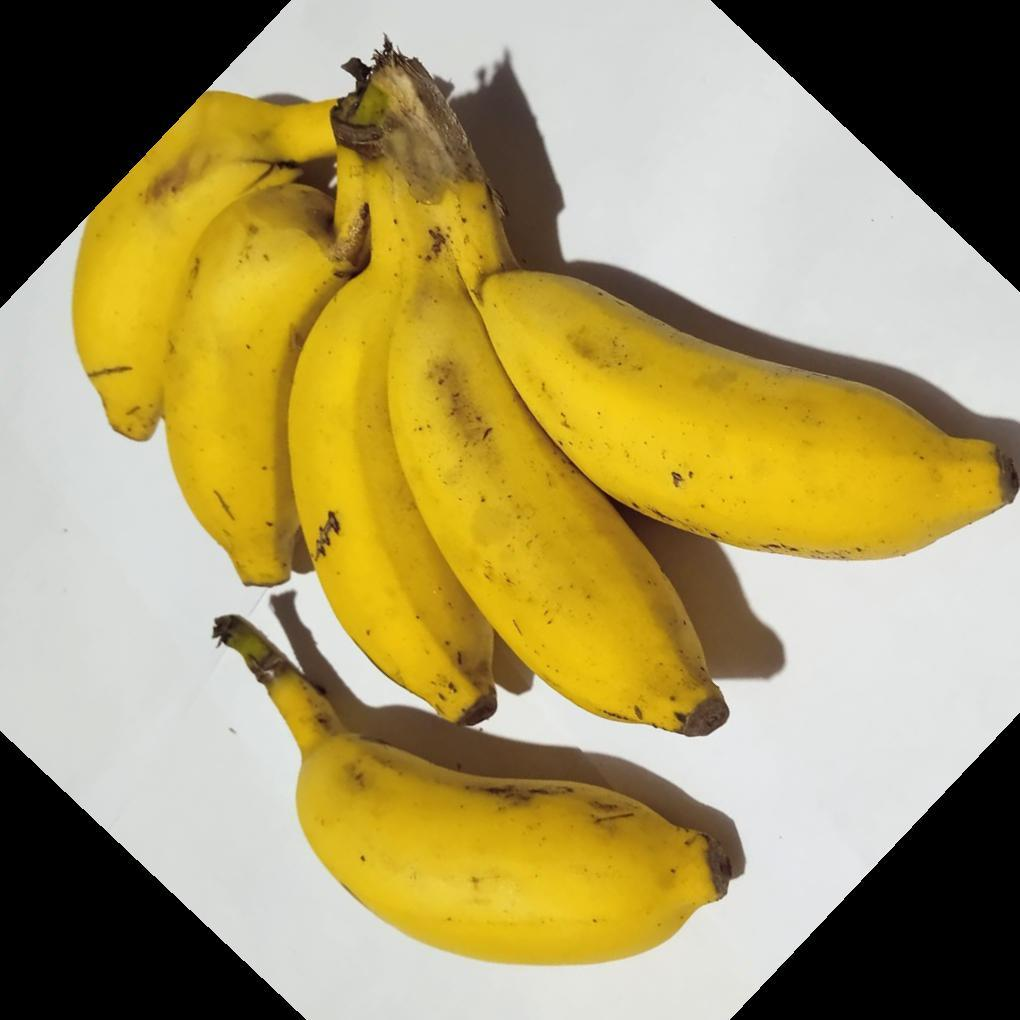Banana Ripe: (269, 54, 1020, 843), (369, 80, 1019, 821), (415, 80, 1020, 660), (83, 57, 486, 713), (159, 616, 753, 994)
